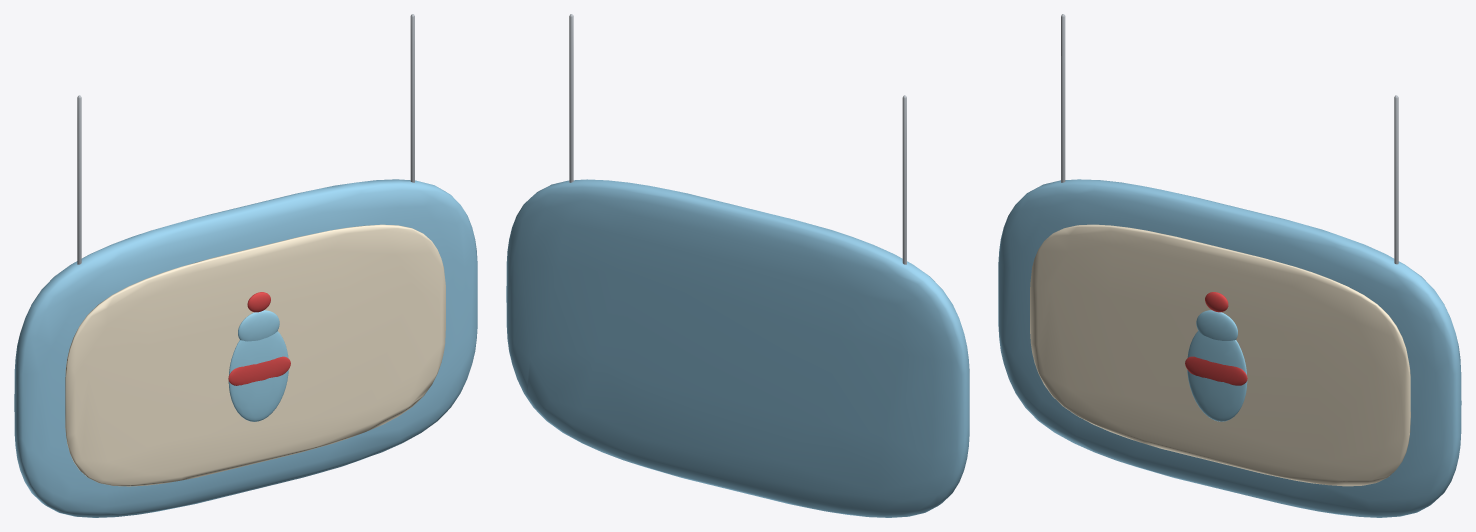
The model's file is letrero_bebidas.glb.
The picture shows the model from 3 angles, left to right: view 1: azimuth 30°, elevation 25°; view 2: azimuth 150°, elevation 25°; view 3: azimuth 330°, elevation 25°; orthographic projection.
Parts seen in each view (by area): view 1: placa letrero.004, letrero sección.004, botella.005, etiqueta.008, hombro.001, cadena letrero.008, cadena letrero.009; view 2: letrero sección.004, cadena letrero.008, cadena letrero.009; view 3: placa letrero.004, letrero sección.004, botella.005, etiqueta.008, hombro.001, cadena letrero.009, cadena letrero.008.
Boxes of the visible parts, left/top/right/bottom form: placa letrero.004: left=65, top=224, right=445, bottom=486; letrero sección.004: left=14, top=179, right=477, bottom=517; botella.005: left=228, top=331, right=288, bottom=421; etiqueta.008: left=228, top=356, right=290, bottom=385; hombro.001: left=238, top=310, right=279, bottom=341; cadena letrero.008: left=77, top=95, right=81, bottom=264; cadena letrero.009: left=410, top=14, right=414, bottom=182; letrero sección.004: left=506, top=179, right=969, bottom=517; cadena letrero.008: left=902, top=95, right=906, bottom=264; cadena letrero.009: left=569, top=14, right=573, bottom=182; placa letrero.004: left=1030, top=224, right=1410, bottom=486; letrero sección.004: left=998, top=179, right=1461, bottom=517; botella.005: left=1187, top=331, right=1247, bottom=421; etiqueta.008: left=1185, top=356, right=1247, bottom=385; hombro.001: left=1196, top=310, right=1237, bottom=340; cadena letrero.009: left=1394, top=95, right=1398, bottom=264; cadena letrero.008: left=1061, top=14, right=1065, bottom=182.
Size of the model in its own units: 1.16 by 1.05 by 0.1051.
